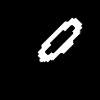chain: (38, 18, 81, 61)
